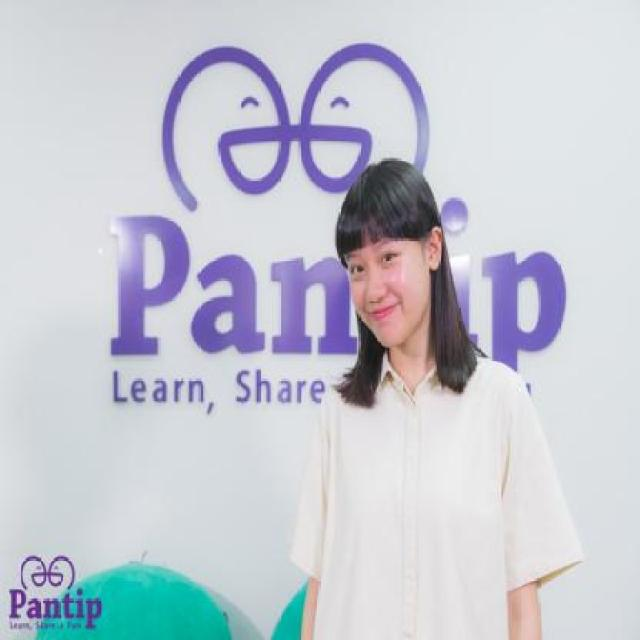sem_oculos: (346, 232, 440, 280)
